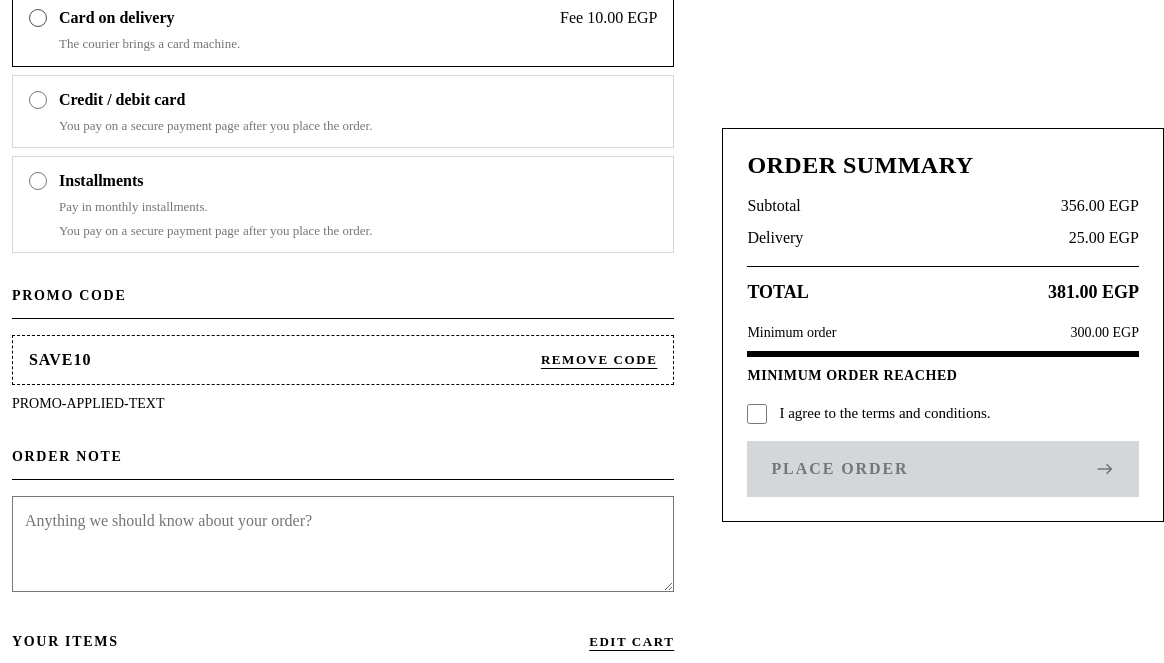
Test: CheckoutView: changing a choice › removing an applied code sends null and is asked only once
(page scrolled)
Click the button "Remove code": {"x": 599, "y": 360} [541,350,657,370]
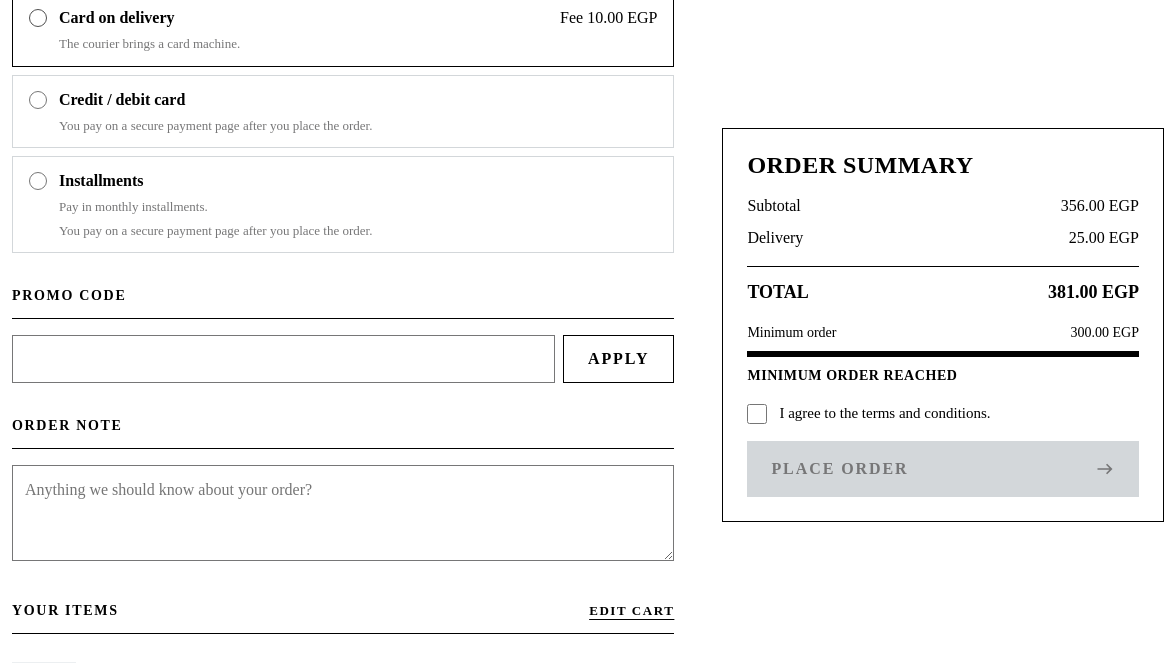
Expected: the message with test id "promo-message" is gone
